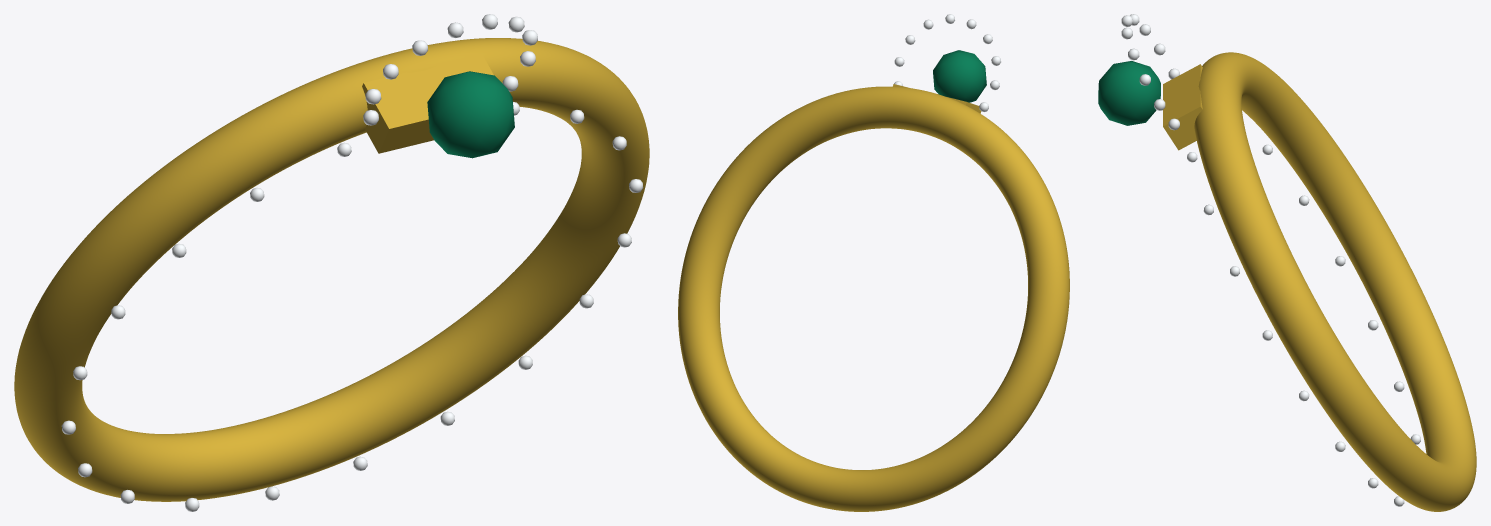
Rendered from regal-emerald-crown-ring.glb.
The picture shows the model from 3 angles, left to right: view 1: azimuth 30°, elevation 25°; view 2: azimuth 150°, elevation 25°; view 3: azimuth 270°, elevation 25°; orthographic projection. The views are drawn at different scales.
Visible parts, largest first — view 1: gold_band, hero_gemstone, gold_setting; view 2: gold_band, hero_gemstone; view 3: gold_band, hero_gemstone, gold_setting.
Boxes of the visible parts, x1,y1,x2,y2 form: gold_band: (14,38,649,501); hero_gemstone: (427,71,514,158); gold_setting: (362,54,493,153); gold_band: (678,86,1069,511); hero_gemstone: (933,50,986,102); gold_band: (1194,52,1476,511); hero_gemstone: (1098,61,1160,125); gold_setting: (1163,64,1202,150).
Size of the model in its own units: 2.34 by 2.34 by 1.73.
